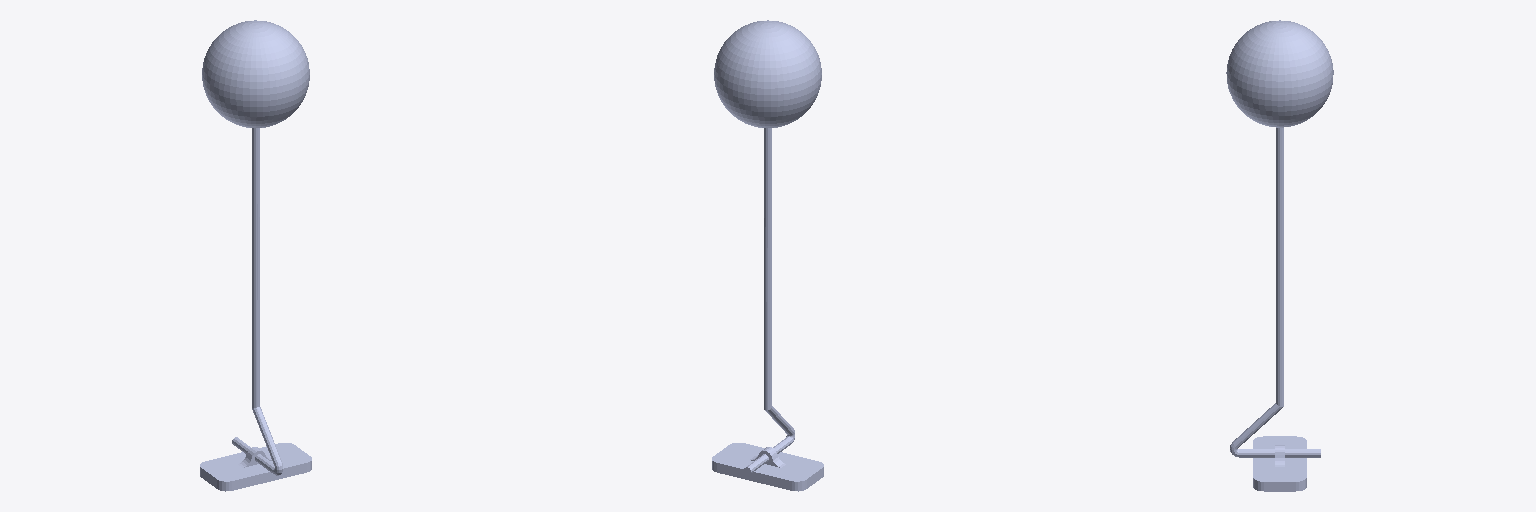
robot.urdf — ax1:
<?xml version="1.0" encoding="utf-8"?>
<!-- This URDF was automatically created by SolidWorks to URDF Exporter! Originally created by Stephen Brawner (brawner@gmail.com) 
     Commit Version: 1.6.0-4-g7f85cfe  Build Version: 1.6.7995.38578
     For more information, please see http://wiki.ros.org/sw_urdf_exporter -->
<robot
  name="ax1">
  <link
    name="base_link">
    <inertial>
      <origin
        xyz="0 0 0.0053279"
        rpy="0 0 0" />
      <mass
        value="0.050778" />
      <inertia
        ixx="1.0583E-05"
        ixy="0"
        ixz="0"
        iyy="4.0367E-05"
        iyz="0"
        izz="4.9749E-05" />
    </inertial>
    <visual>
      <origin
        xyz="0 0 0"
        rpy="0 0 0" />
      <geometry>
        <mesh
          filename="package://ax1/meshes/base_link.STL" />
      </geometry>
      <material
        name="">
        <color
          rgba="0.79216 0.81961 0.93333 1" />
      </material>
    </visual>
    <collision>
      <origin
        xyz="0 0 0"
        rpy="0 0 0" />
      <geometry>
        <mesh
          filename="package://ax1/meshes/base_link.STL" />
      </geometry>
    </collision>
  </link>
  <link
    name="p_link">
    <inertial>
      <origin
        xyz="0.00015748 0.37969 -2.0724E-09"
        rpy="0 0 0" />
      <mass
        value="0.54553" />
      <inertia
        ixx="0.00081242"
        ixy="0"
        ixz="0"
        iyy="0.00052799"
        iyz="0"
        izz="0.00081664" />
    </inertial>
    <visual>
      <origin
        xyz="0 0 0"
        rpy="0 0 0" />
      <geometry>
        <mesh
          filename="package://ax1/meshes/p_link.STL" />
      </geometry>
      <material
        name="">
        <color
          rgba="0.79216 0.81961 0.93333 1" />
      </material>
    </visual>
    <collision>
      <origin
        xyz="0 0 0"
        rpy="0 0 0" />
      <geometry>
        <mesh
          filename="package://ax1/meshes/p_link.STL" />
      </geometry>
    </collision>
  </link>
  <joint
    name="j_1"
    type="revolute">
    <origin
      xyz="0 0 0.016"
      rpy="1.5708 0 -1.5708" />
    <parent
      link="base_link" />
    <child
      link="p_link" />
    <axis
      xyz="-1 0 0" />
    <limit
      lower="0"
      upper="0"
      effort="0"
      velocity="0" />
  </joint>
</robot>

--- Facts derived from the render (not from the file) ---
3 views of the same robot in one strip: view 1: azimuth 30°, elevation 25°; view 2: azimuth 150°, elevation 25°; view 3: azimuth 270°, elevation 25° (orthographic).
Robot: ax1 — 2 links, 1 joints (1 revolute); root link base_link; default pose: all joints at 0.
Links seen in each view (by area): view 1: p_link, base_link; view 2: p_link, base_link; view 3: p_link, base_link.
Link boxes in pixels (x1,y1,x2,y2): p_link: [202, 20, 309, 475]; base_link: [200, 443, 311, 491]; p_link: [714, 20, 821, 474]; base_link: [712, 443, 823, 491]; p_link: [1226, 20, 1333, 457]; base_link: [1253, 436, 1306, 491].
Size in the robot's own frame: 0.1 by 0.0998 by 0.456 metres.
2 mesh visuals loaded from 2 distinct referenced files (2 binary STL).
